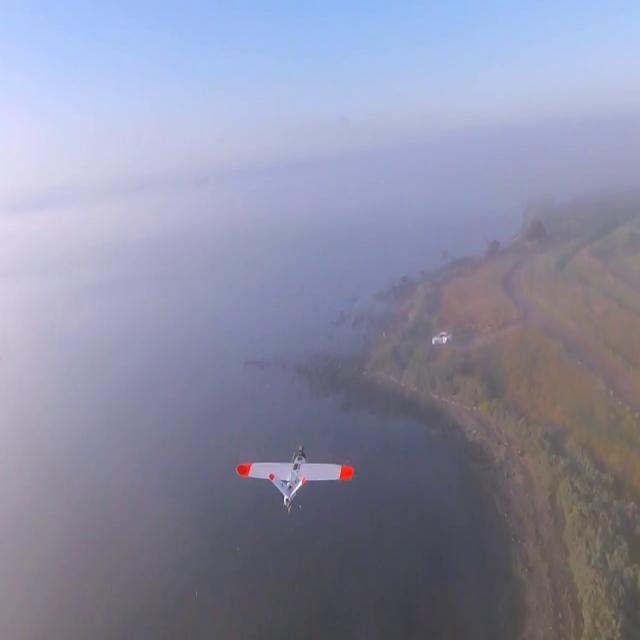iha: (264, 476, 324, 480)
